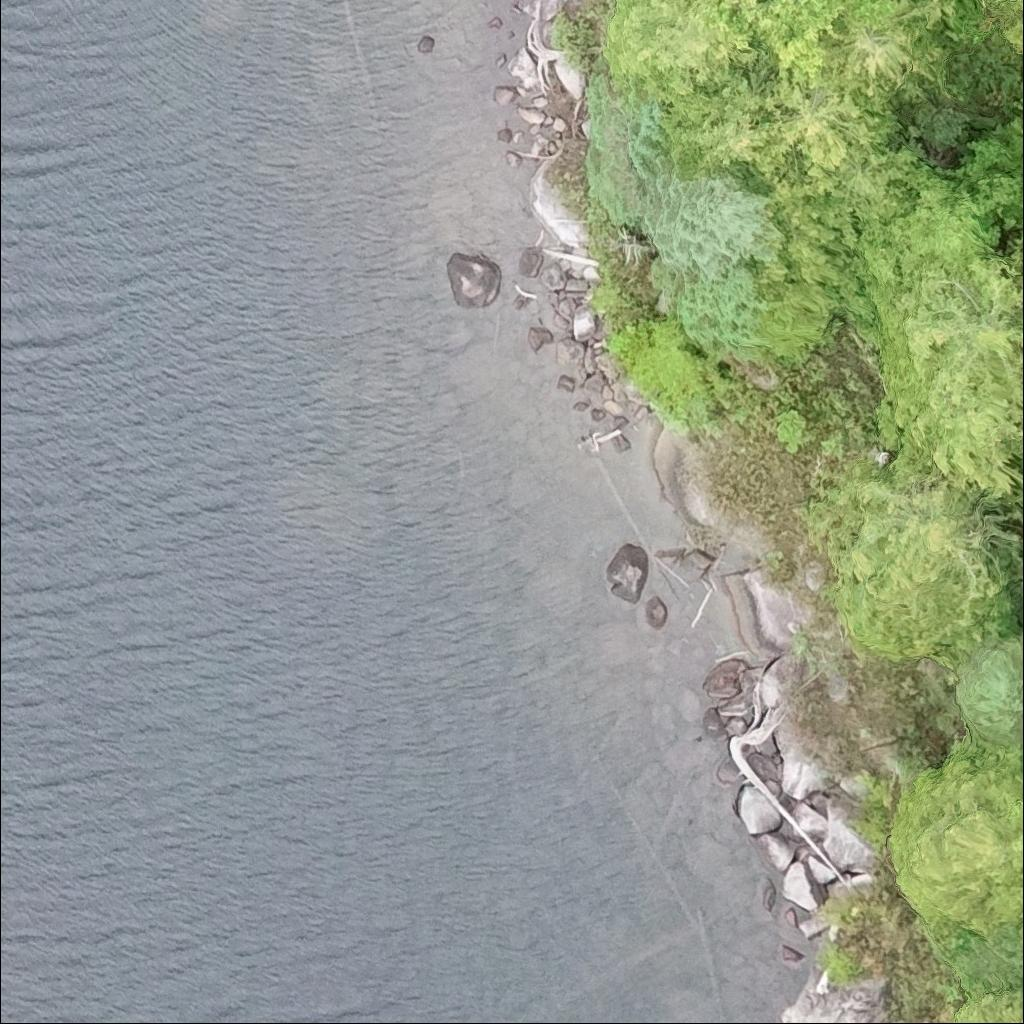crown: (805, 458, 1023, 663), (876, 262, 1023, 507), (892, 737, 1023, 933), (598, 0, 767, 103), (819, 0, 951, 109), (779, 81, 891, 168), (953, 634, 1023, 756), (774, 0, 902, 30), (955, 992, 1023, 1023), (1008, 786, 1023, 883), (996, 0, 1023, 50), (1009, 236, 1023, 273), (620, 0, 646, 16)
